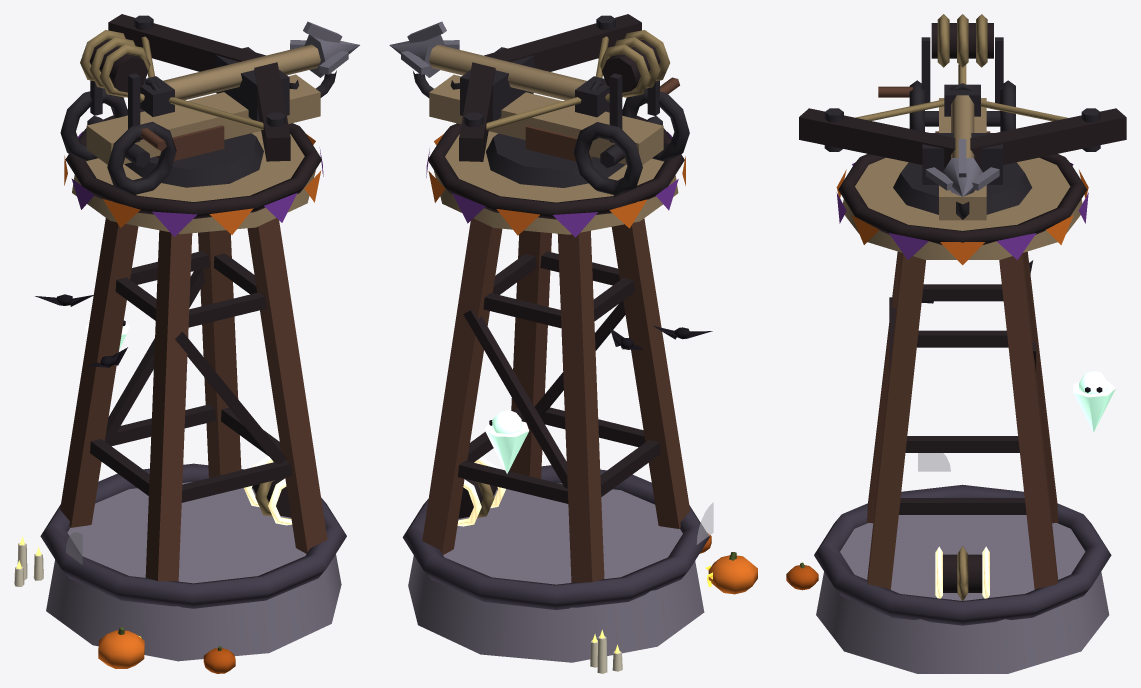
File: tower_ballista_harpoon.glb
The picture shows the model from 3 angles, left to right: view 1: azimuth 30°, elevation 25°; view 2: azimuth 150°, elevation 25°; view 3: azimuth 270°, elevation 25°; orthographic projection. The views are drawn at different scales.
Visible parts, largest first — view 1: base, leg_wn, leg_en, base_rim, leg_ws, leg_es, deck, stock, deck_rim, turret_ring, bow_arm_r, bolt_shaft (+27 smaller); view 2: base, leg_ws, leg_es, base_rim, leg_wn, deck, stock, leg_en, deck_rim, turret_ring, bow_arm_l, bolt_shaft (+28 smaller); view 3: base, base_rim, leg_en, leg_es, deck, deck_rim, bow_arm_l, bow_arm_r, turret_ring, deco_hw_bunting, ring_e_0.21, ring_w_0.21 (+25 smaller).
Boxes of the visible parts, x1,y1,x2,y2 form: base: (46,482,341,661); leg_wn: (145,230,192,581); leg_en: (247,218,327,553); base_rim: (40,463,346,608); leg_ws: (60,218,138,527); leg_es: (198,230,241,477); deck: (72,131,315,234); stock: (86,74,320,164); deck_rim: (65,108,321,218); turret_ring: (124,133,263,187); bow_arm_r: (108,14,265,71); bolt_shaft: (163,44,320,99); base: (408,483,704,662); leg_ws: (557,230,604,582); leg_es: (422,218,502,554); base_rim: (402,465,709,609); leg_wn: (611,218,690,528); deck: (434,131,678,234); stock: (429,74,663,164); leg_en: (509,230,551,478); deck_rim: (428,108,684,219); turret_ring: (486,133,625,187); bow_arm_l: (484,14,641,71); bolt_shaft: (429,44,586,100); base: (816,515,1109,673); base_rim: (814,484,1111,625); leg_en: (867,253,925,589); leg_es: (999,253,1057,589); deck: (843,157,1082,259); deck_rim: (838,154,1087,244); bow_arm_l: (799,108,955,168); bow_arm_r: (970,108,1126,168); turret_ring: (893,162,1032,214); deco_hw_bunting: (836,163,1088,265); ring_e_0.21: (899,498,1026,514); ring_w_0.21: (905,436,1019,452).
Bounding box in the file's own units: 0.4775 × 0.847 × 0.4638.
